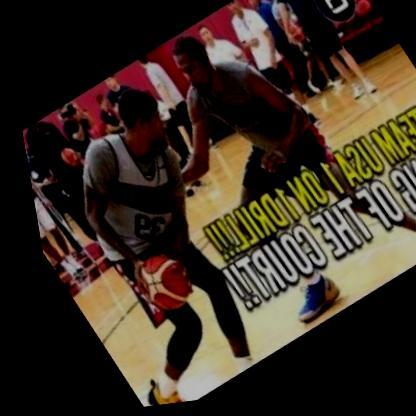basketball: (105, 242, 198, 334)
